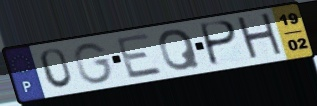0: (38, 47, 74, 91)
E: (114, 31, 166, 81)
G: (72, 41, 115, 86)
H: (234, 11, 287, 63)
P: (200, 19, 240, 68)
Q: (157, 28, 203, 73)
